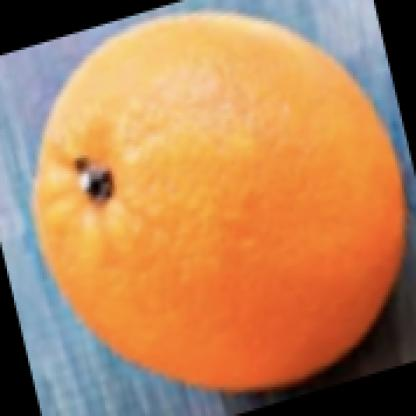fresh: (38, 14, 403, 387)
